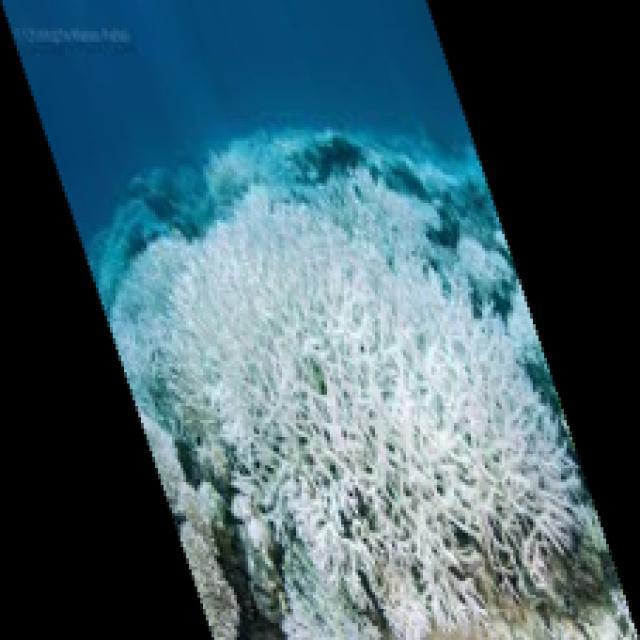Bleached: (143, 192, 579, 594), (139, 416, 246, 640), (385, 570, 640, 640), (274, 539, 384, 640)
